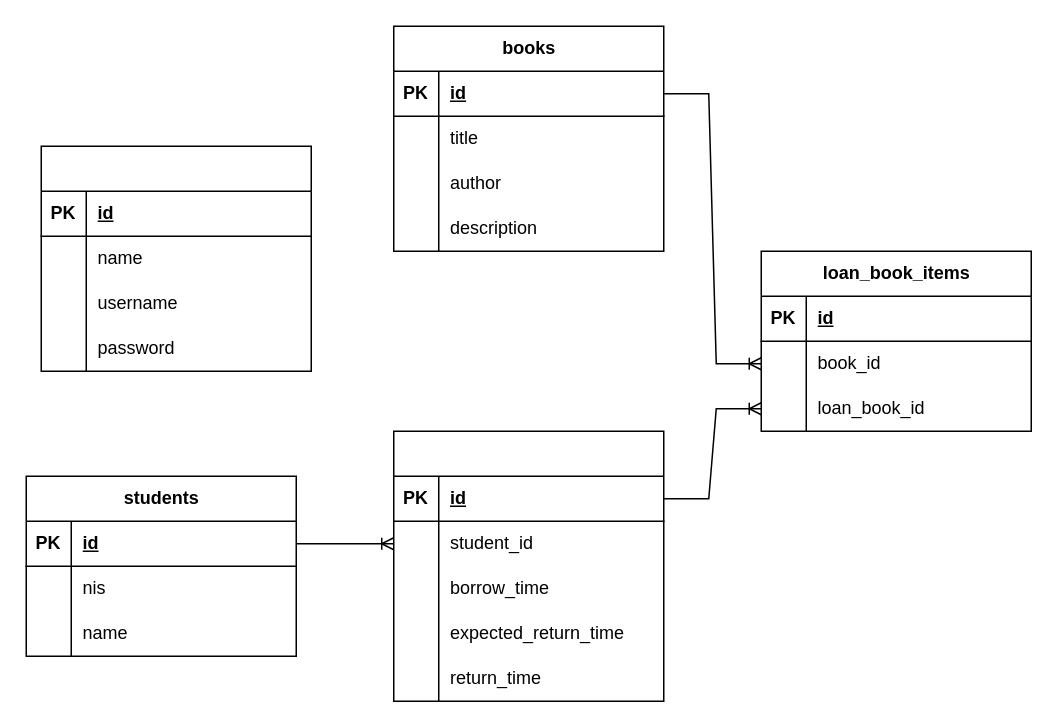
Image size: 1058x728. Some labels were removed from this diagram. Each missing label, with the box of its shape:
loan_books: (392, 430, 664, 701)
users: (40, 145, 311, 371)
